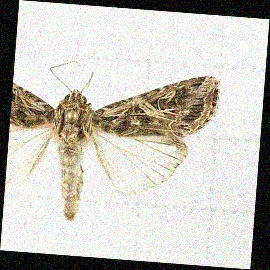Spodoptera litura: (9, 63, 216, 226)
